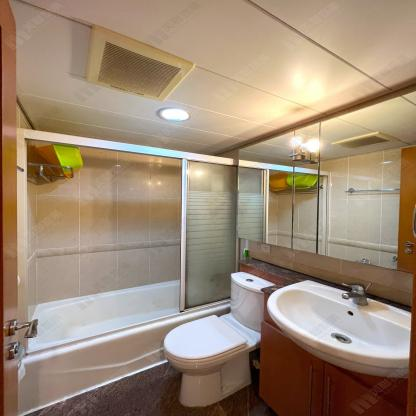Bathtub: (18, 278, 231, 416)
Toilet: (160, 271, 276, 408)
Toilet Sink: (264, 277, 411, 382)
